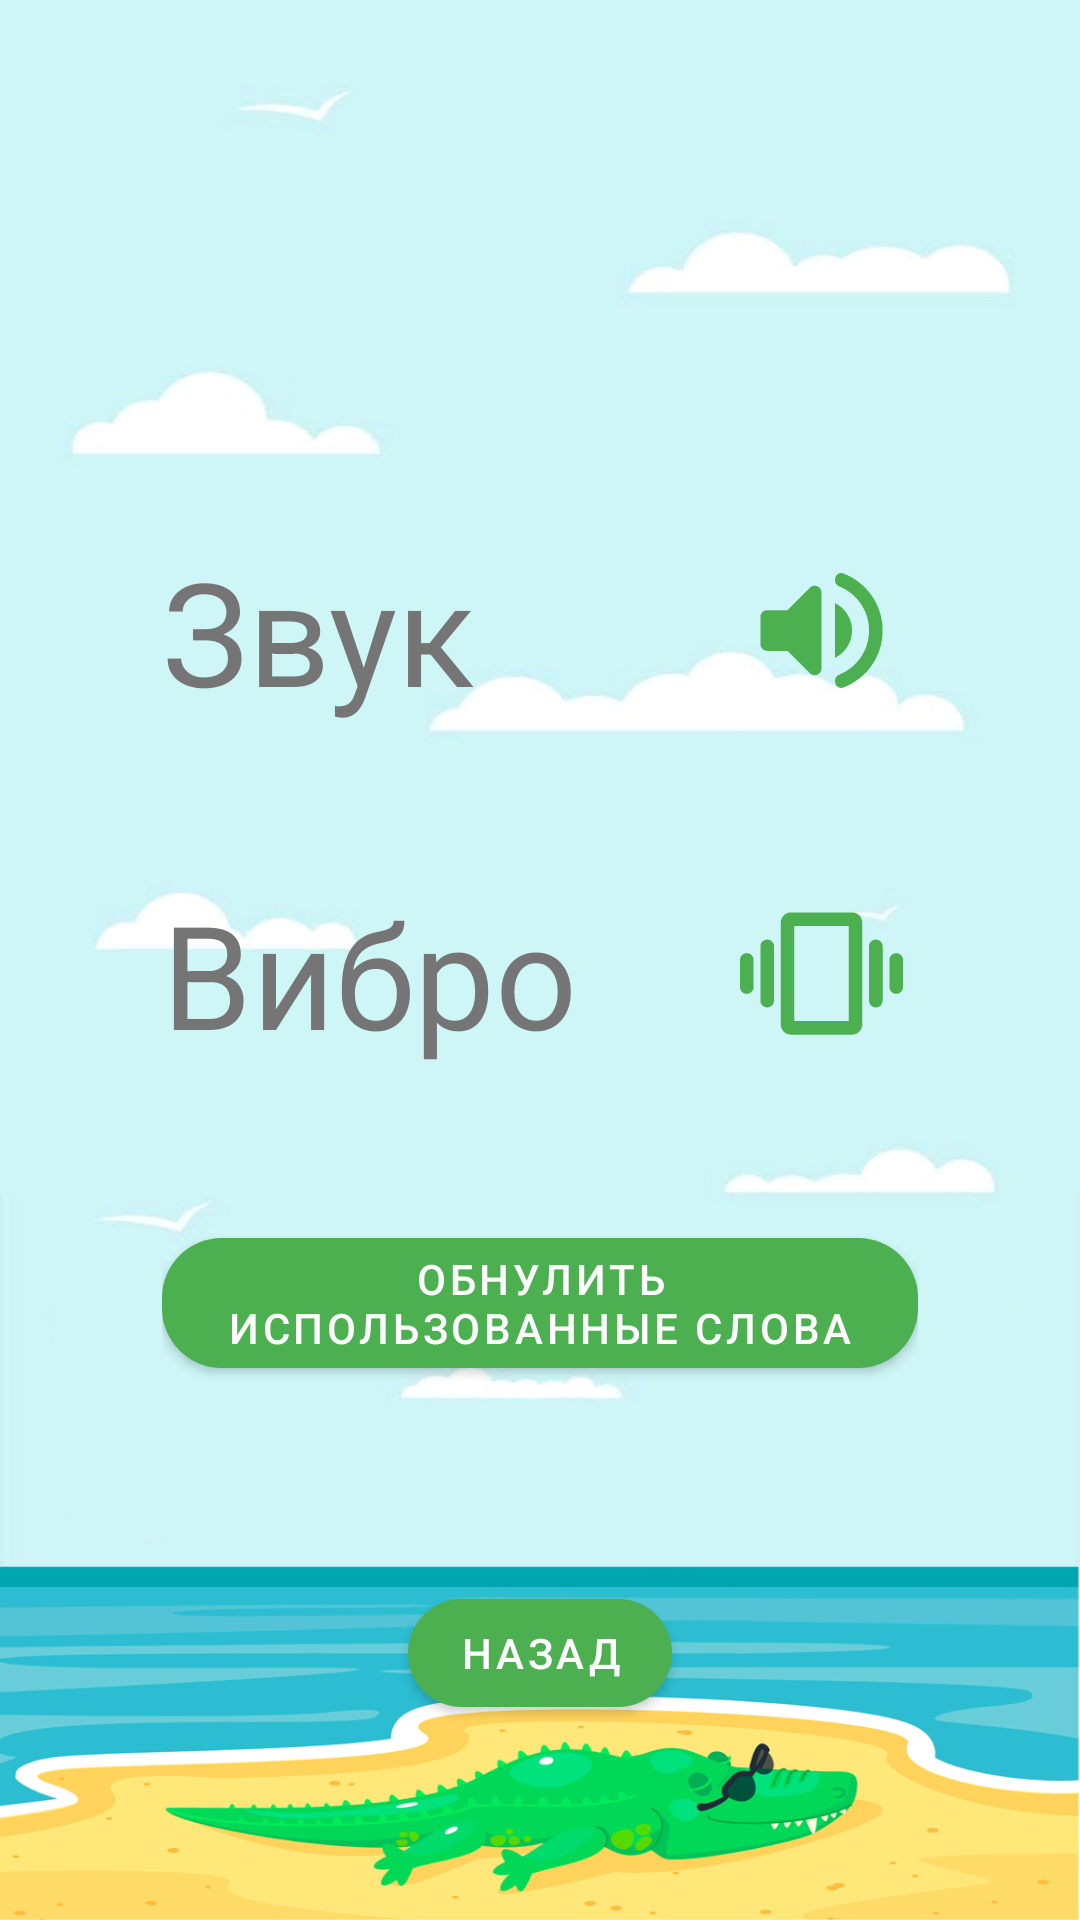

Screen size 1080×1920. Icon name, then its center in pixels as (x,y):
vibration: (821,971)
volume up: (821,642)
